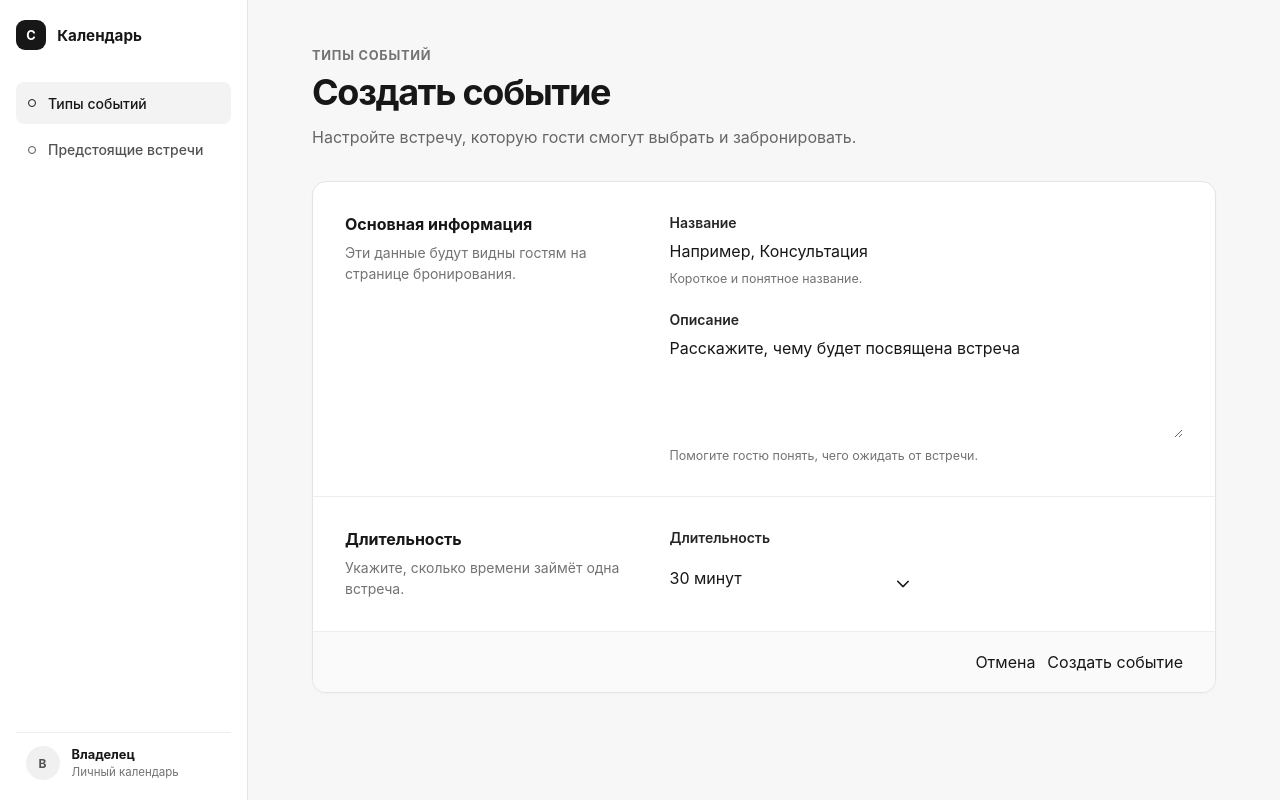
Test: создание типа события › показывает ошибку API и сохраняет введённые данные
Type "Консультация" into the field labelled "Название".
click(926, 251); type("Консультация")  # box left=670, top=241, right=1183, bottom=261
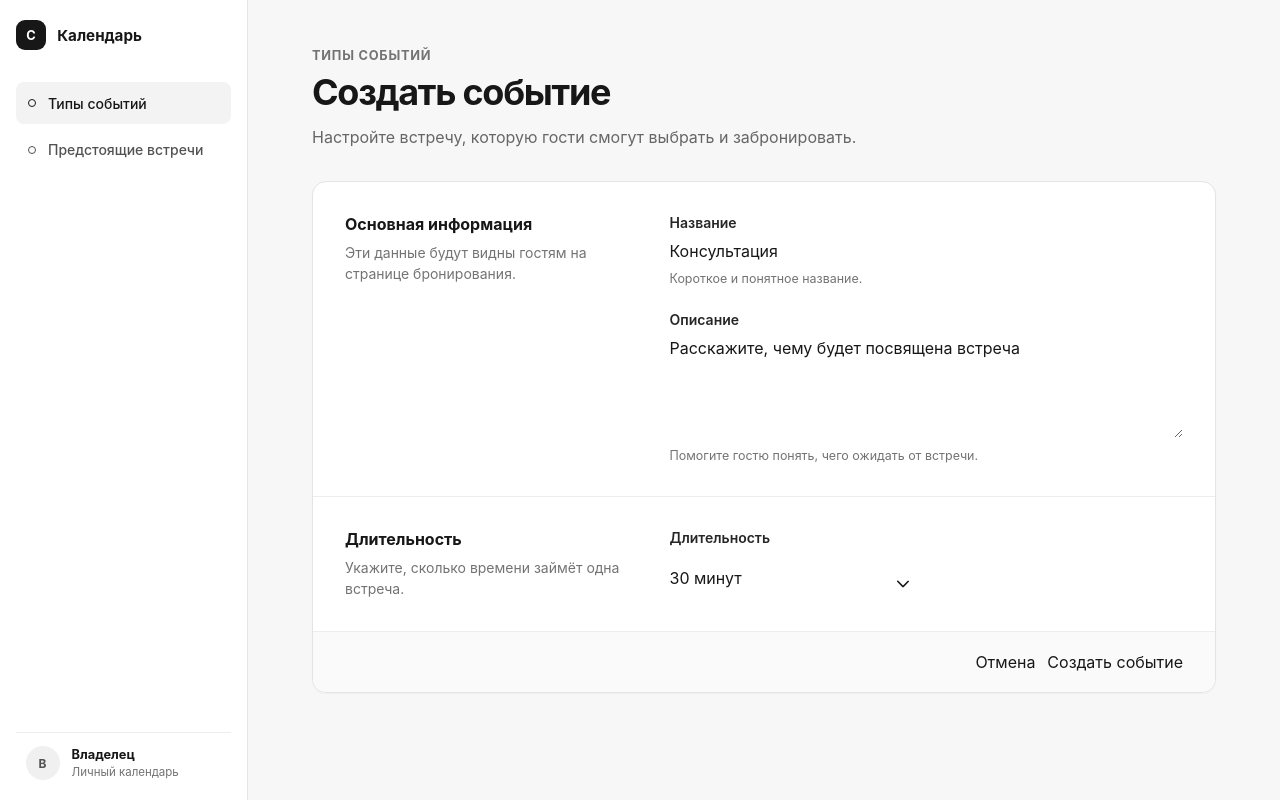
Type "Обсудим задачу" into the text box labelled "Описание".
click(926, 388); type("Обсудим задачу")  # box left=670, top=338, right=1183, bottom=438
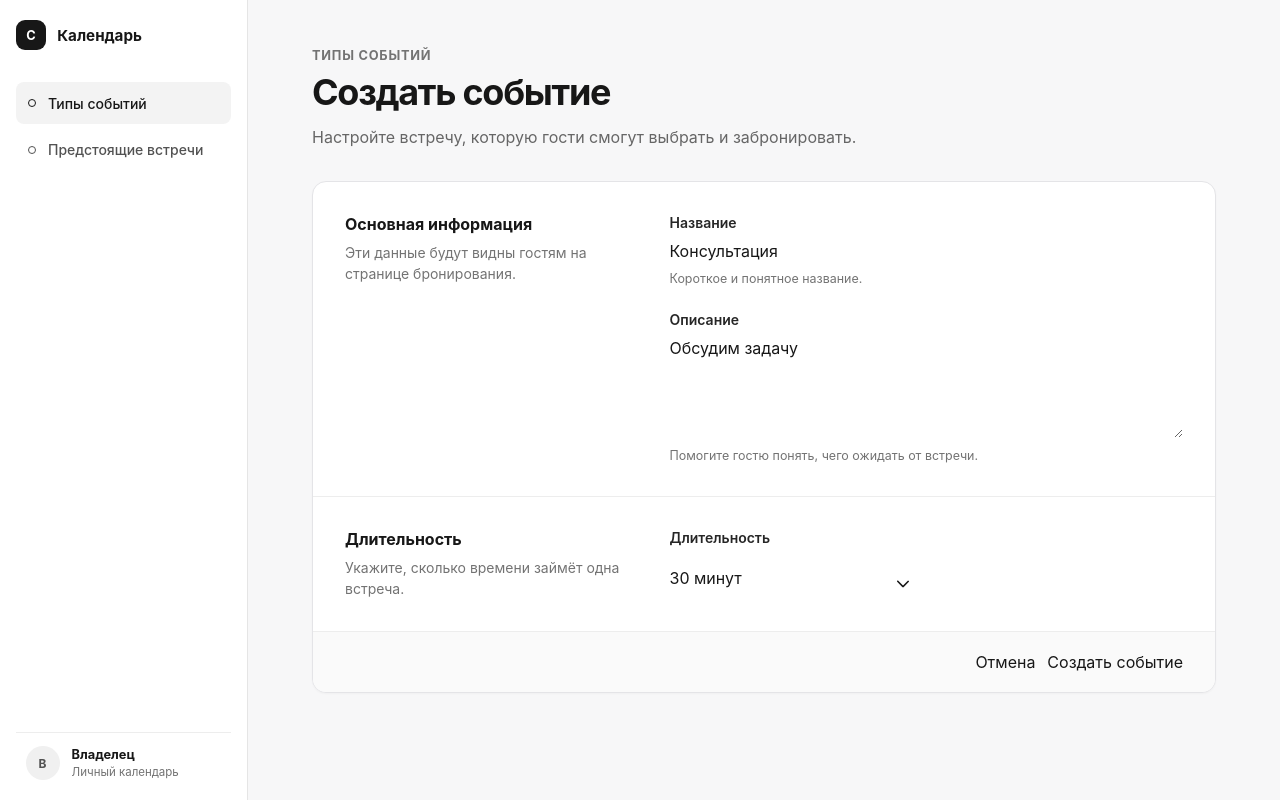
Click the button "Создать событие".
click(1115, 662)  # box left=1047, top=652, right=1183, bottom=672
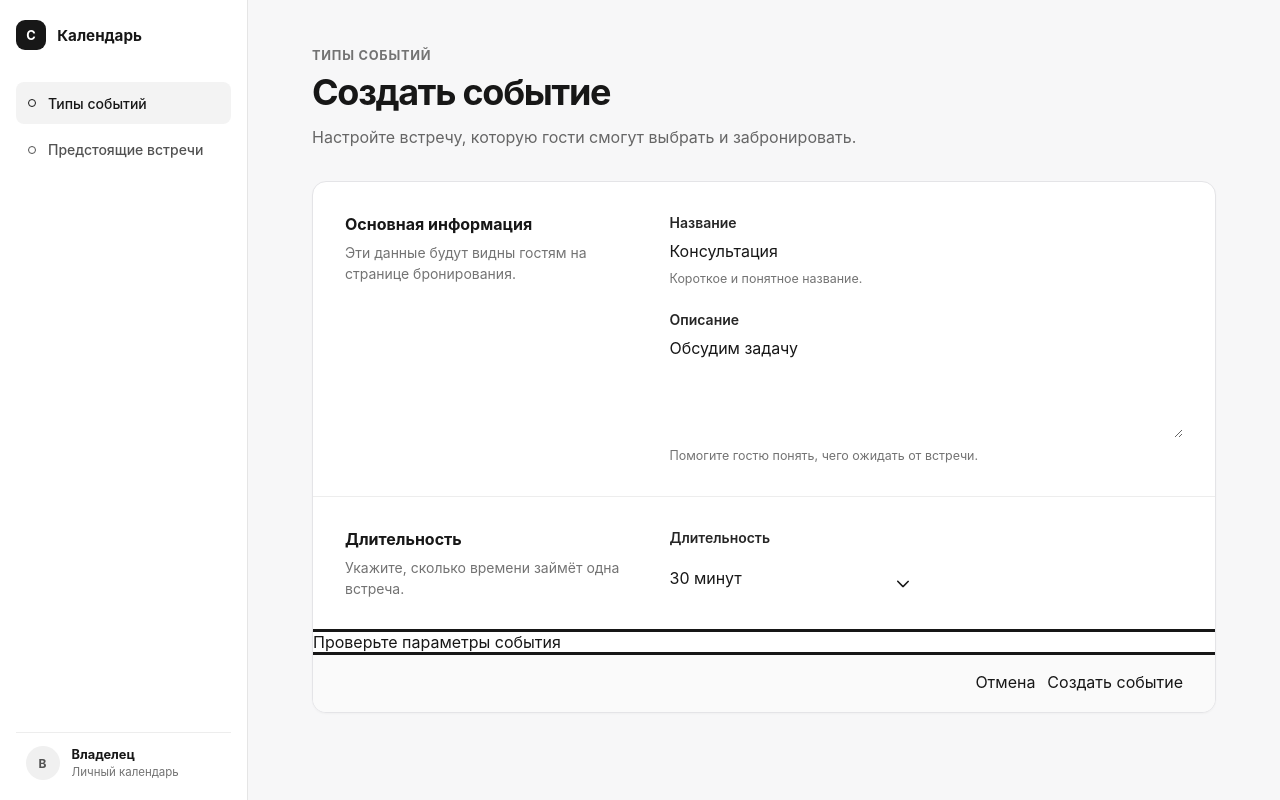
Check: the text "Проверьте параметры события" is shown, box left=313, top=632, right=561, bottom=652
